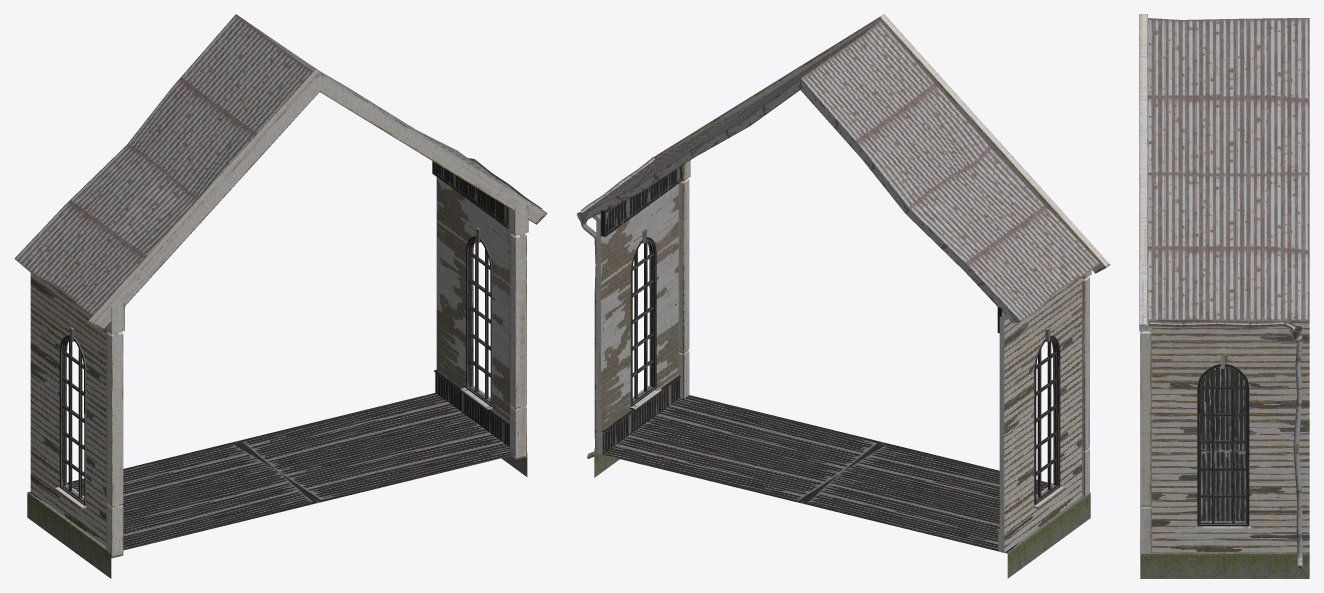
Rendered from nave.glb.
3 views of the same model, side by side, from view 1: azimuth 30°, elevation 25°; view 2: azimuth 150°, elevation 25°; view 3: azimuth 270°, elevation 25° (orthographic).
Visible parts, largest first — view 1: Church1_Mid_A; view 2: Church1_Mid_A; view 3: Church1_Mid_A.
Boxes of the visible parts, x1,y1,x2,y2 form: Church1_Mid_A: [14, 14, 547, 578]; Church1_Mid_A: [576, 14, 1110, 578]; Church1_Mid_A: [1139, 14, 1309, 578].
Bounding box in the file's own units: 10.1 × 9.58 × 3.21.
Materials: 1 (1 with a texture image).
